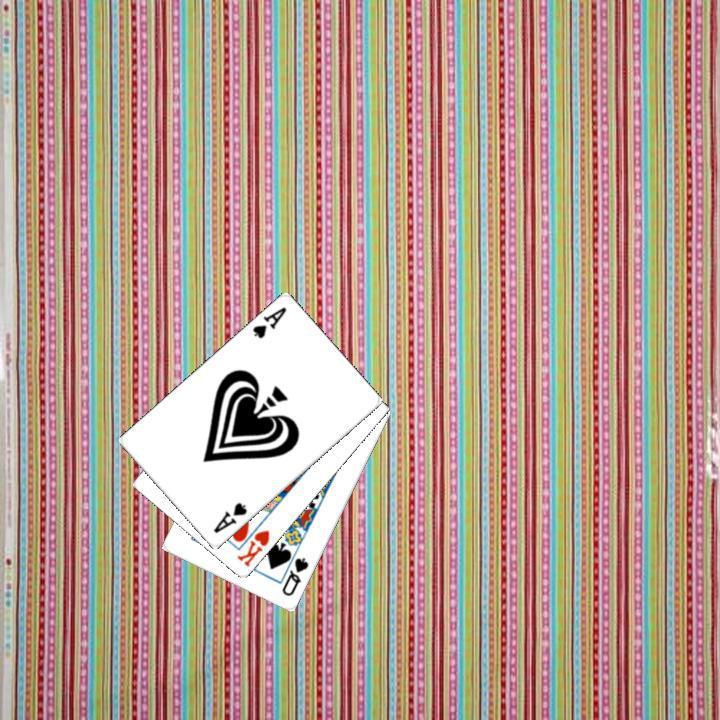A: (248, 303, 289, 341), (209, 498, 249, 536)
K: (233, 526, 272, 569)
Q: (277, 553, 311, 598)
